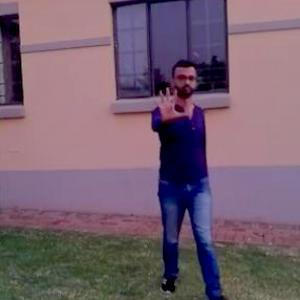follow_hand: (149, 83, 192, 125)
